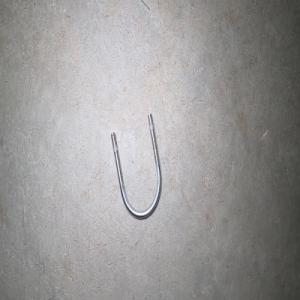ClampPart: (110, 113, 162, 220)
